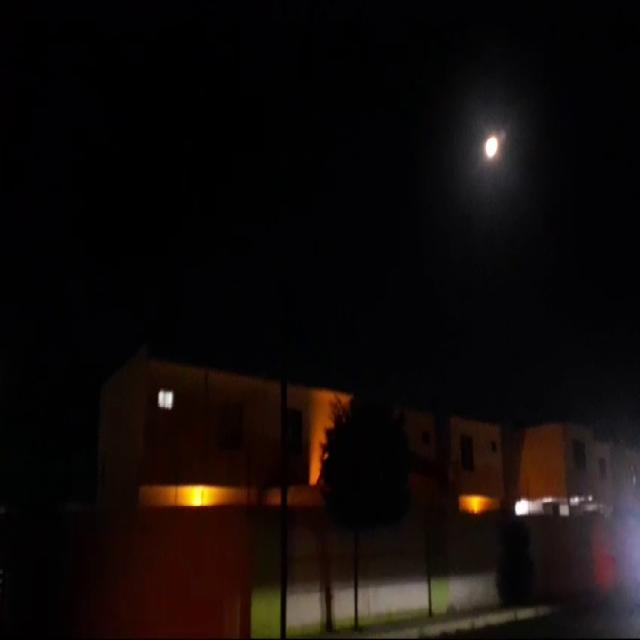moon: (474, 143, 494, 177)
